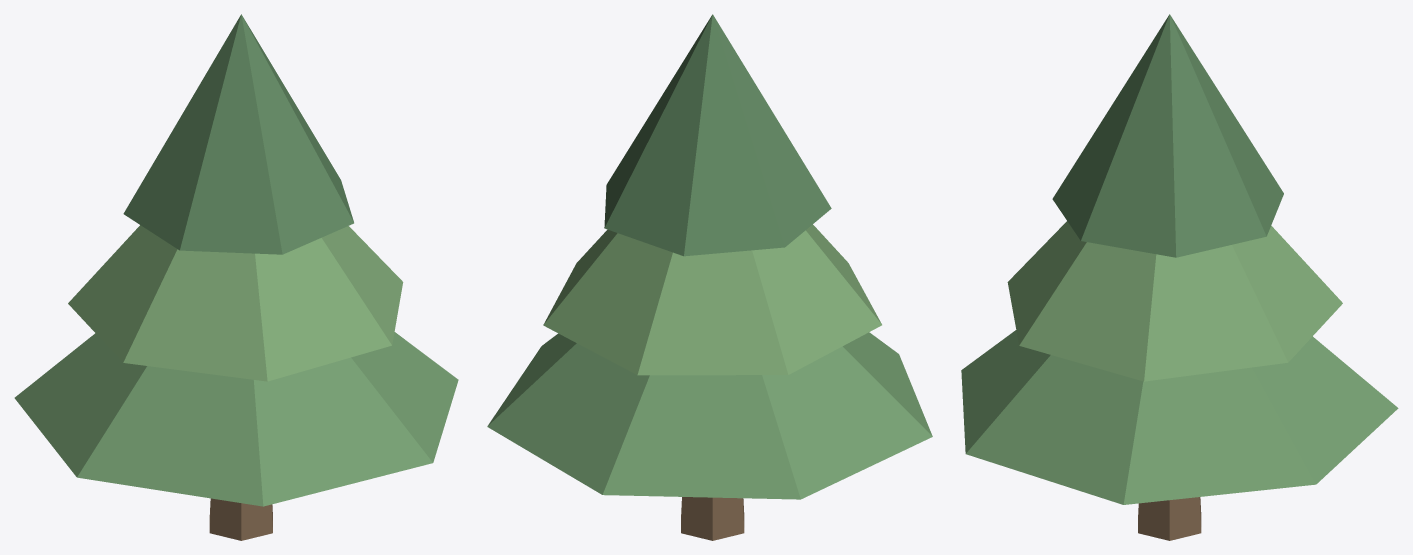
File: valak_pinheiro_2.glb
The picture shows the model from 3 angles, left to right: view 1: azimuth 30°, elevation 25°; view 2: azimuth 150°, elevation 25°; view 3: azimuth 270°, elevation 25°; orthographic projection.
Parts seen in each view (by area): view 1: pinheiro; view 2: pinheiro; view 3: pinheiro.
Part boxes in pixels (x1,y1,x2,y2): pinheiro: (14,14,458,540); pinheiro: (487,14,932,540); pinheiro: (961,14,1398,540).
Size of the model in its own units: 1.46 by 1.85 by 1.43.
